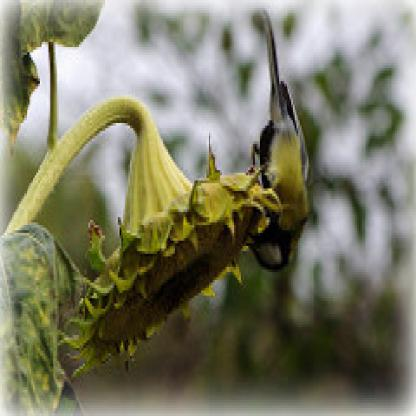SUN FLOWER: (57, 82, 280, 383)
